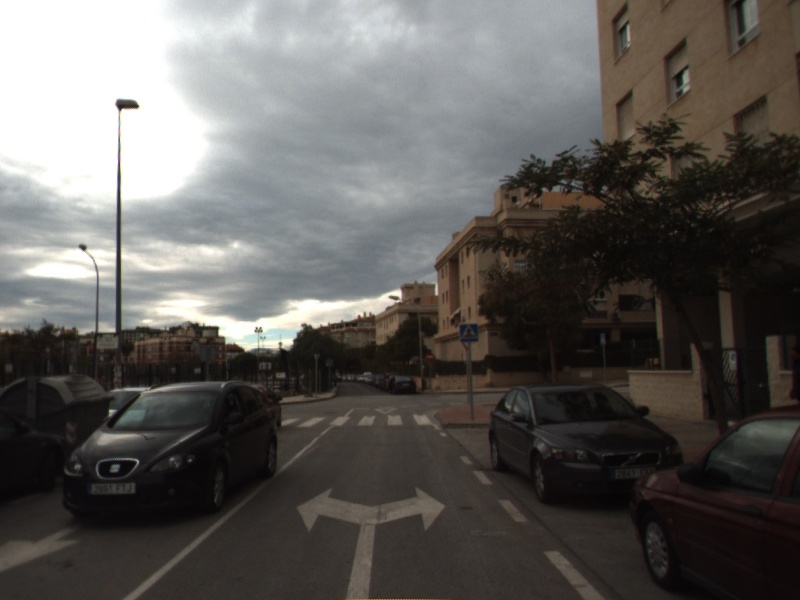LEFT_RIGHT: (293, 484, 449, 600)
